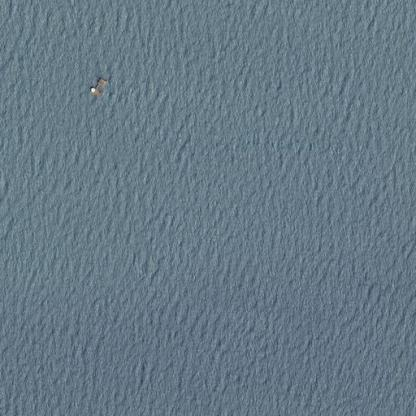ship: (85, 73, 108, 106)
